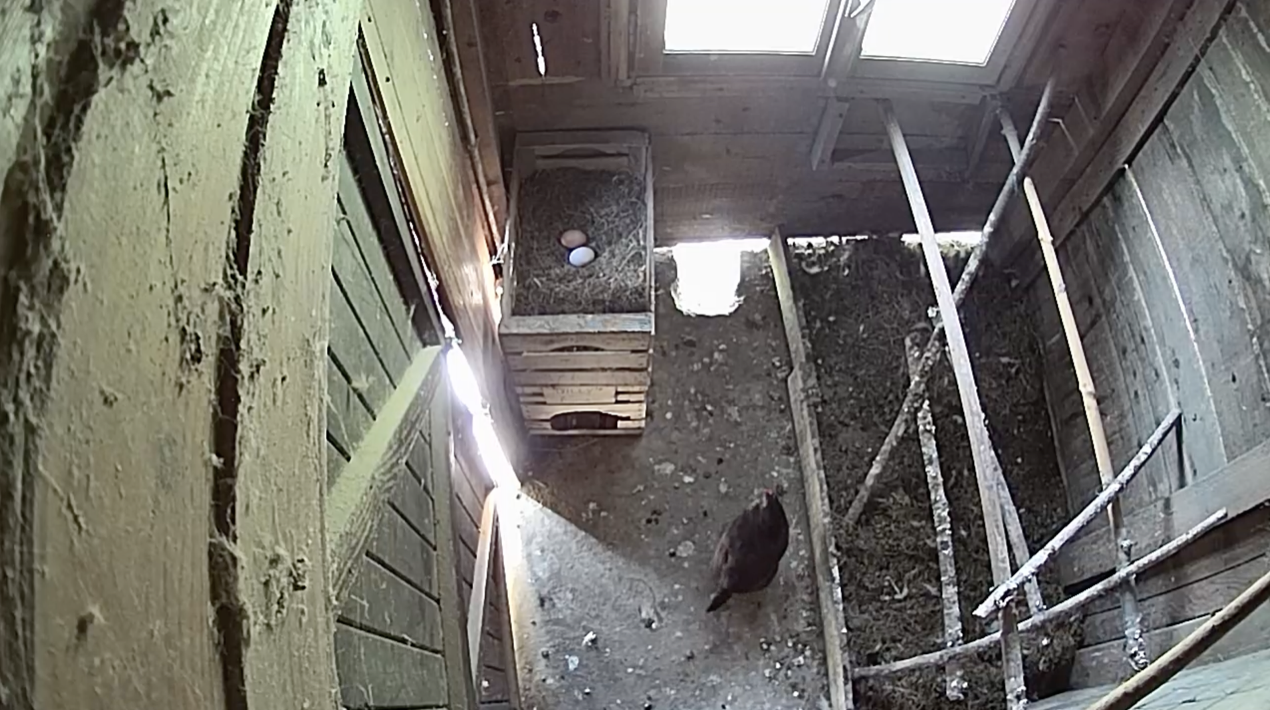chicken: (703, 475, 797, 627)
egg: (568, 246, 597, 267), (560, 227, 588, 248)
